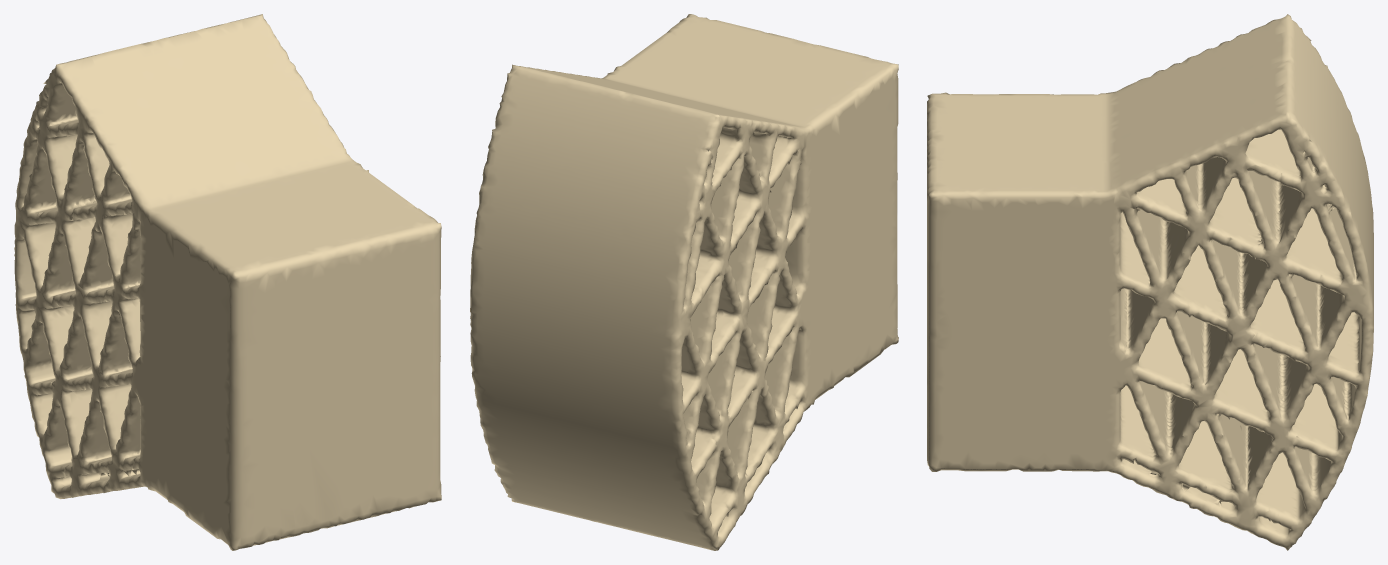
Rendered from ollie-paw-shape-035.glb.
The picture shows the model from 3 angles, left to right: view 1: azimuth 30°, elevation 25°; view 2: azimuth 150°, elevation 25°; view 3: azimuth 270°, elevation 25°; orthographic projection.
Visible parts, largest first — view 1: world; view 2: world; view 3: world.
Boxes of the visible parts, box(x1,y1,x2,y2) form: world: box(14, 14, 441, 550); world: box(470, 14, 898, 550); world: box(927, 14, 1373, 550).
Bounding box in the file's own units: 20 × 39.88 × 37.
